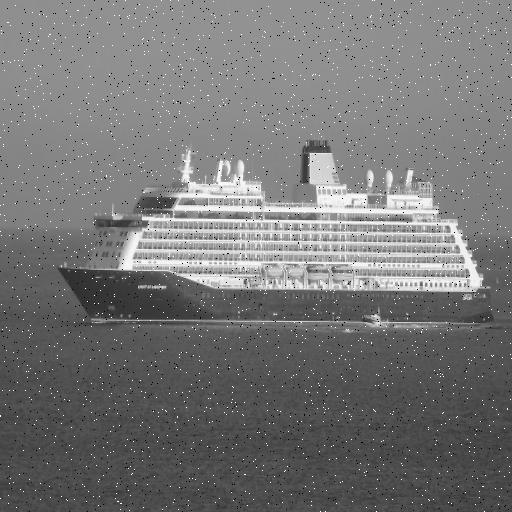cruises: (56, 138, 500, 340)
